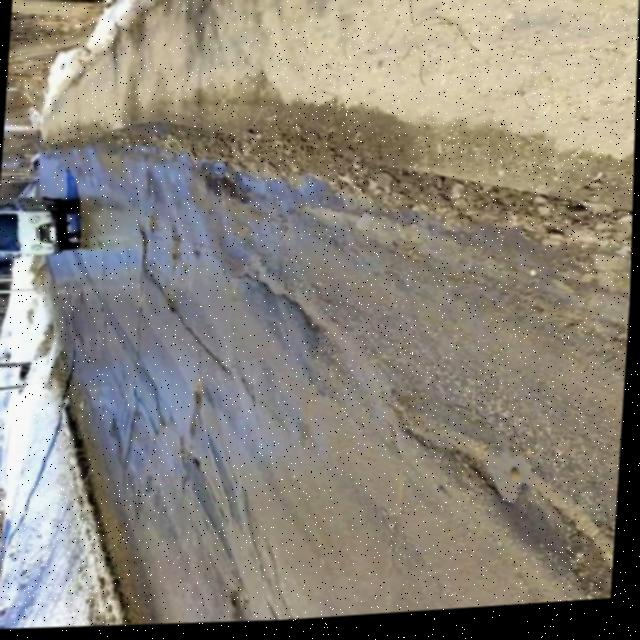Pothole: (444, 444, 551, 522), (219, 581, 269, 627), (183, 383, 216, 418), (176, 440, 197, 484), (158, 291, 183, 321)
